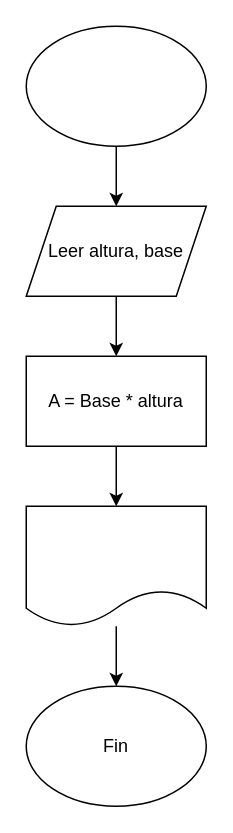
This 233x833 diagram has some shape labels left out. Each missing label, with the centre of its shape:
Inicio: pixel 115 85
R = A: pixel 115 565
